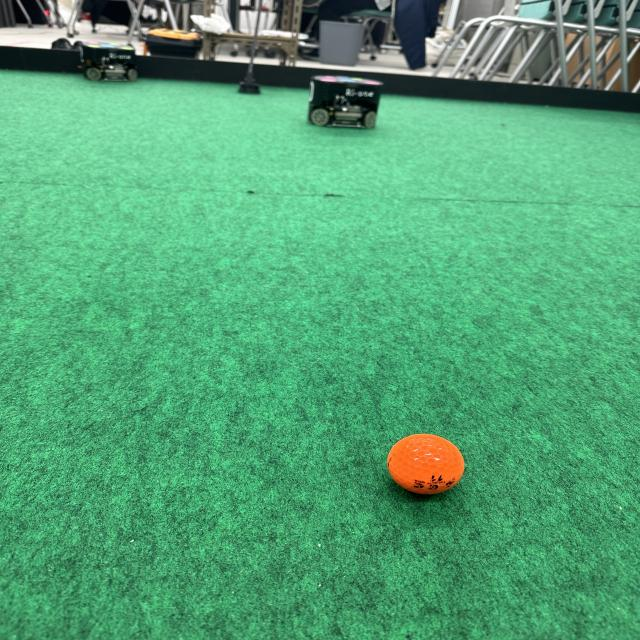ball: (384, 432, 466, 497)
